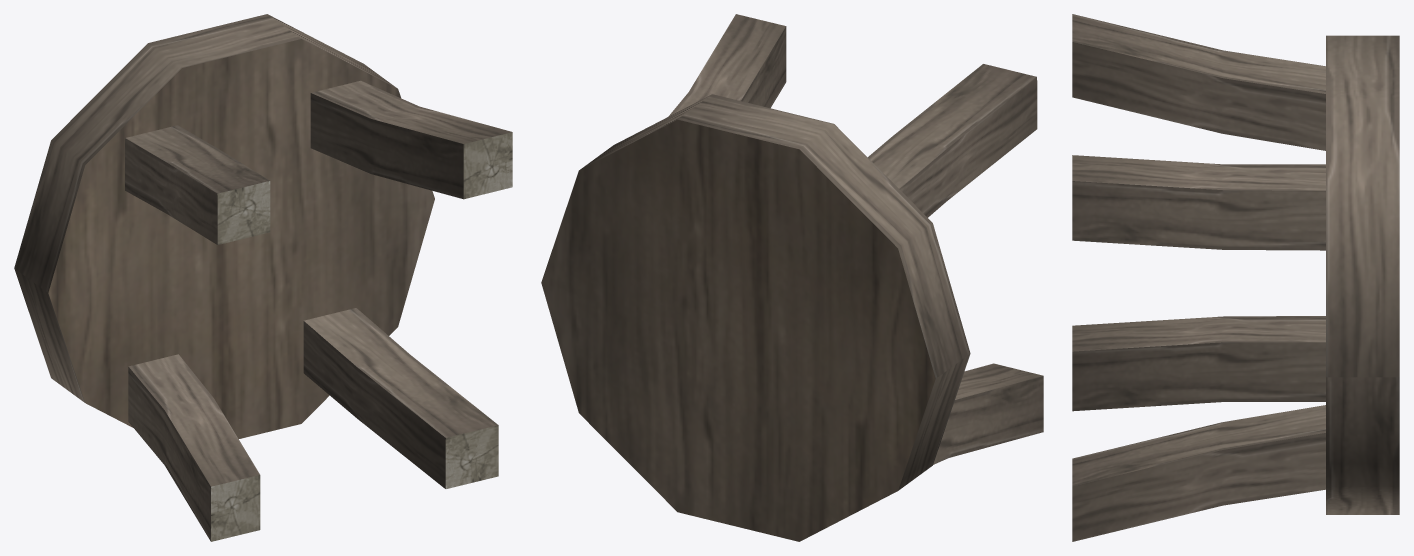
Rendered from Stool_B.fbx.
3 renders of one model, left to right at view 1: azimuth 30°, elevation 25°; view 2: azimuth 150°, elevation 25°; view 3: azimuth 270°, elevation 25°, orthographic. The views are drawn at different scales.
Visible parts, largest first — view 1: Stool_B; view 2: Stool_B; view 3: Stool_B.
Part boxes in pixels (left/top/right/bottom): Stool_B: left=14, top=14, right=512, bottom=541; Stool_B: left=541, top=14, right=1043, bottom=541; Stool_B: left=1072, top=14, right=1399, bottom=541.
Bounding box in the file's own units: 0.7003 × 0.666 × 0.475.
